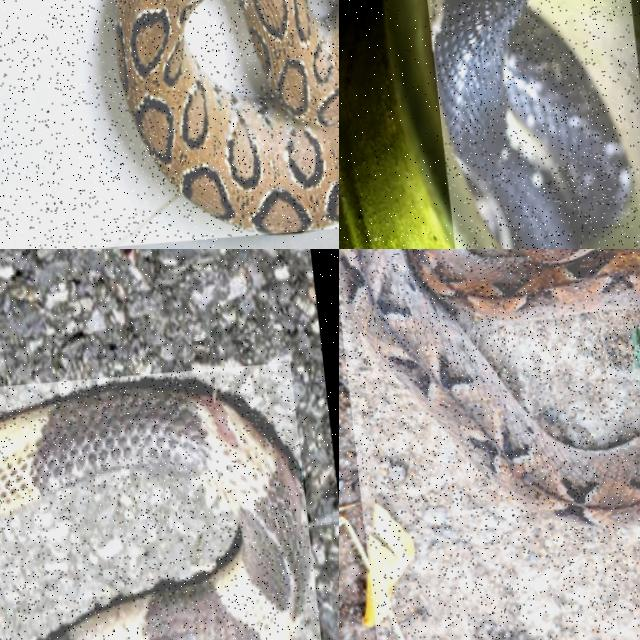Bungarus candidus: (0, 387, 310, 639)
Calloselasma rhodostoma: (339, 249, 639, 525)
Daboia siamensis: (117, 0, 338, 232)
Naja siamensis: (433, 0, 629, 248)
snake: (339, 249, 639, 525), (0, 387, 310, 639), (117, 0, 338, 232), (433, 0, 629, 248)
